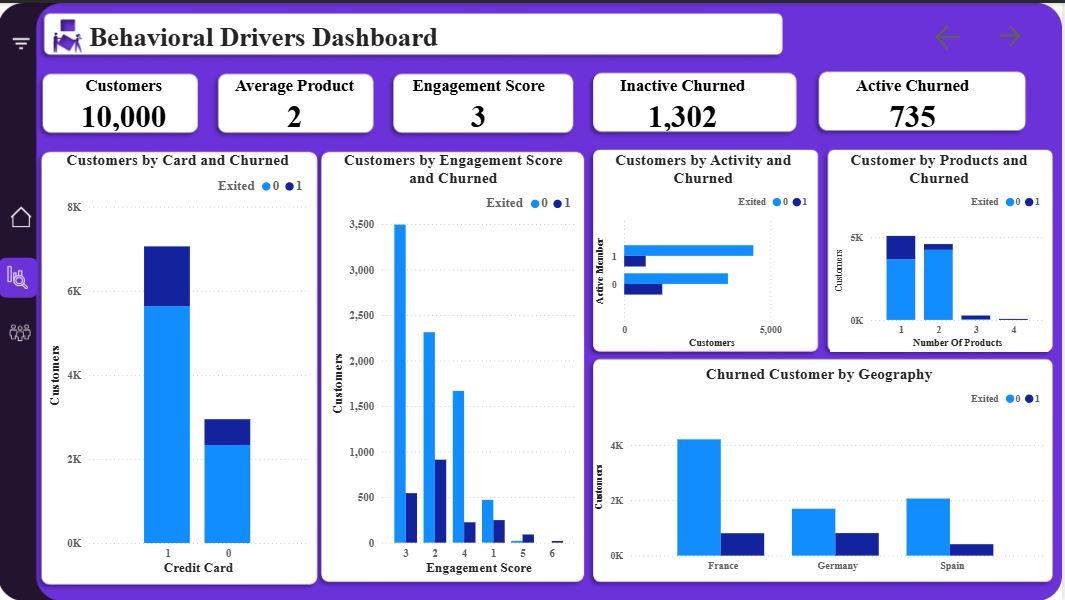

What the dashboard file says about the page in this screenshot:
{"tool":"powerbi","page":{"name":"Behavioral Drivers","canvas":[1280,720],"ordinal":4},"visuals":[{"type":"textbox","box":[105.2,17.8,443.4,56.6],"z":0},{"type":"card","title":"Customers","fields":{"Values":["KPIs.Num_of_Customers"]},"box":[66.3,87.4,169.9,71.2],"z":1000},{"type":"card","title":"Average Product","fields":{"Values":["KPIs.AvgProd"]},"box":[271.9,87.4,169.9,71.2],"z":2000},{"type":"card","title":"Engagement Score","fields":{"Values":["KPIs.MinEngScore"]},"box":[493.6,87.4,169.9,71.2],"z":3000},{"type":"card","title":"Inactive Churned","fields":{"Values":["KPIs.ChurnedInactives"]},"box":[739.5,87.4,169.9,71.2],"z":4000},{"type":"card","title":"Active Churned","fields":{"Values":["KPIs.ChurnedActives"]},"box":[1016.2,87.4,169.9,71.2],"z":5000},{"type":"columnChart","title":"Customer by Products and Churned","fields":{"Category":["Churn_Modelling.NumOfProducts"],"Y":["KPIs.Customer Count"],"Series":["Churn_Modelling.Exited"]},"box":[1002.3,178,262.6,242.4],"z":6000},{"type":"clusteredBarChart","title":"Customers by Activity and Churned","fields":{"Category":["Churn_Modelling.IsActiveMember"],"Y":["CountNonNull(Churn_Modelling.CustomerId)"],"Series":["Churn_Modelling.Exited"]},"box":[713.6,178,270.2,242.7],"z":7000},{"type":"columnChart","title":"Customers by Card and Churned","fields":{"Category":["Churn_Modelling.HasCrCard"],"Y":["CountNonNull(Churn_Modelling.CustomerId)"],"Series":["Churn_Modelling.Exited"]},"box":[55.5,178,321.9,515],"z":8000},{"type":"clusteredColumnChart","title":"Customers by Engagement Score and Churned","fields":{"Category":["Churn_Modelling.Engagement Score"],"Y":["CountNonNull(Churn_Modelling.CustomerId)"],"Series":["Churn_Modelling.Exited"]},"box":[396.5,178,304.2,514.6],"z":9000},{"type":"clusteredColumnChart","title":"Churned Customer by Geography","fields":{"Y":["CountNonNull(Churn_Modelling.CustomerId)"],"Series":["Churn_Modelling.Exited"],"Category":["Churn_Modelling.Geography"]},"box":[713.2,435.5,551.6,257.5],"z":10000},{"type":"actionButton","box":[0,238.2,54.9,49.5],"z":10001},{"type":"actionButton","box":[1193.8,16.1,62.9,49.5],"z":10002},{"type":"actionButton","box":[1124.2,21.4,58.9,40.1],"z":10003}]}

Visuals, with their boxes on the page's 1280x720 design canvas (x1, y1, x2, y2). These are canvas units, not pixel positions in the 1065x600 screenshot, which may show the page scaled, cropped or inside an application window:
textbox: [left=105, top=18, right=549, bottom=74]
"Customers" card: [left=66, top=87, right=236, bottom=159]
"Average Product" card: [left=272, top=87, right=442, bottom=159]
"Engagement Score" card: [left=494, top=87, right=664, bottom=159]
"Inactive Churned" card: [left=740, top=87, right=909, bottom=159]
"Active Churned" card: [left=1016, top=87, right=1186, bottom=159]
"Customer by Products and Churned" columnChart: [left=1002, top=178, right=1265, bottom=420]
"Customers by Activity and Churned" clusteredBarChart: [left=714, top=178, right=984, bottom=421]
"Customers by Card and Churned" columnChart: [left=56, top=178, right=377, bottom=693]
"Customers by Engagement Score and Churned" clusteredColumnChart: [left=396, top=178, right=701, bottom=693]
"Churned Customer by Geography" clusteredColumnChart: [left=713, top=436, right=1265, bottom=693]
actionButton: [left=0, top=238, right=55, bottom=288]
actionButton: [left=1194, top=16, right=1257, bottom=66]
actionButton: [left=1124, top=21, right=1183, bottom=62]
